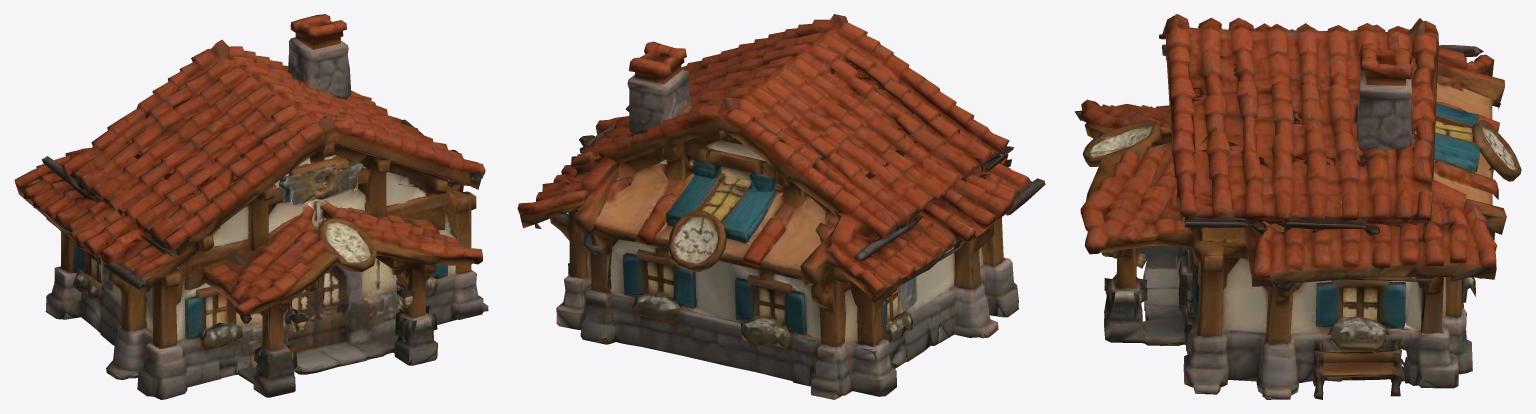
3 views of the same model, side by side, from view 1: azimuth 30°, elevation 25°; view 2: azimuth 150°, elevation 25°; view 3: azimuth 270°, elevation 25° (orthographic). The views are drawn at different scales.
Parts seen in each view (by area): view 1: alpine__rush_station__native_mobile; view 2: alpine__rush_station__native_mobile; view 3: alpine__rush_station__native_mobile.
Part boxes in pixels (<box>): alpine__rush_station__native_mobile: <box>14,14,488,399</box>; alpine__rush_station__native_mobile: <box>517,14,1045,399</box>; alpine__rush_station__native_mobile: <box>1074,14,1521,399</box>.
Size of the model in its own units: 1 by 0.6122 by 0.8292.
1 material, 1 textured.
